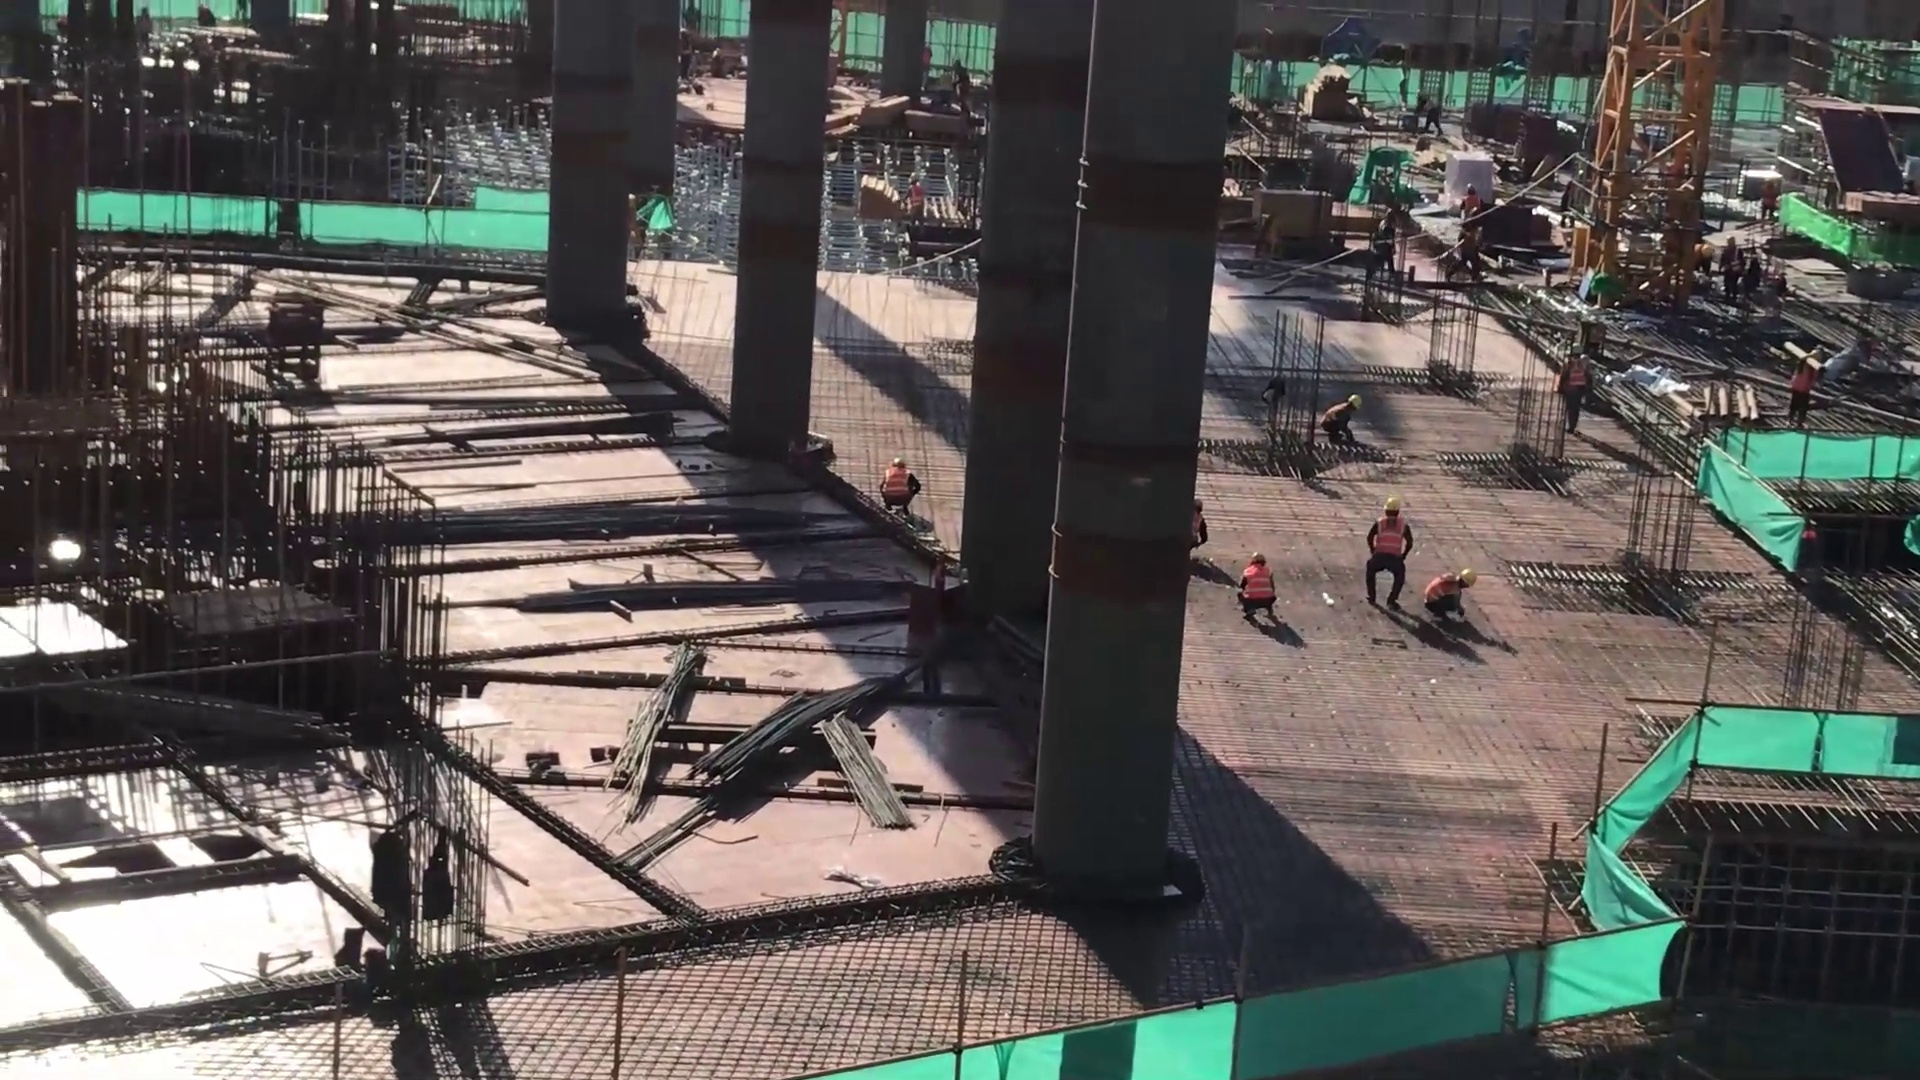helmet: (1459, 567, 1476, 586), (1385, 497, 1403, 510), (1348, 392, 1361, 407), (1248, 551, 1266, 562), (1571, 343, 1582, 353), (891, 457, 905, 467), (1809, 349, 1820, 360)
person: (1369, 492, 1416, 626), (1229, 538, 1286, 634), (1438, 206, 1490, 289), (1425, 558, 1482, 634), (1551, 342, 1592, 437), (869, 461, 924, 523), (1320, 385, 1365, 458), (1788, 345, 1822, 424), (1371, 207, 1402, 286), (1406, 85, 1446, 138), (901, 168, 928, 229), (1183, 501, 1209, 566), (1717, 241, 1744, 302), (1448, 177, 1479, 228), (1755, 173, 1782, 233)
rebar: (709, 681, 920, 810), (823, 704, 909, 847), (629, 649, 694, 823)
vest: (1242, 563, 1275, 602), (1377, 517, 1405, 558), (884, 468, 911, 501), (1429, 575, 1457, 606)
